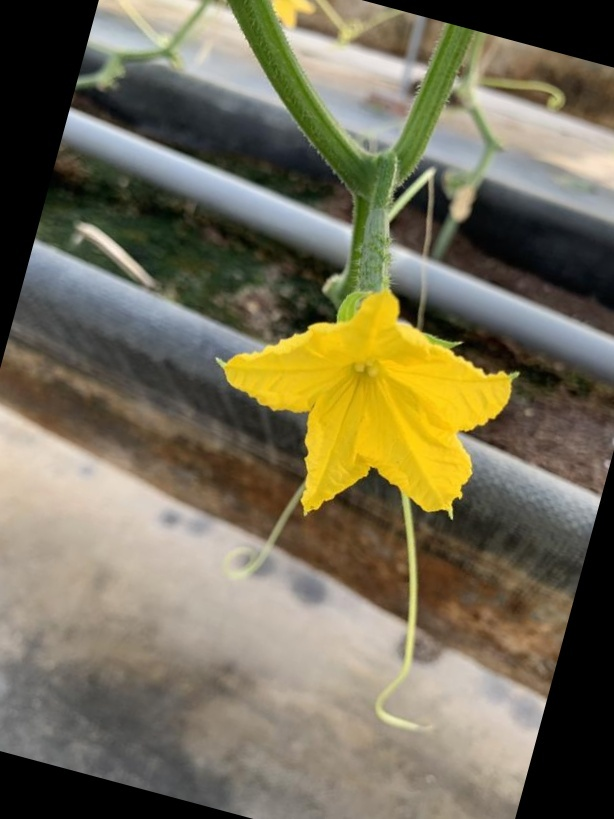flowering: (217, 189, 524, 530)
mature: (216, 189, 526, 529)
